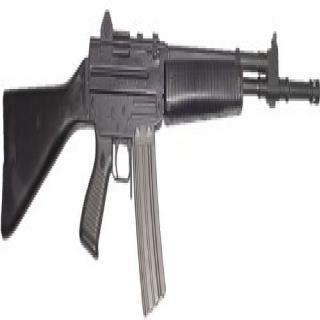gun: (11, 10, 316, 318)
